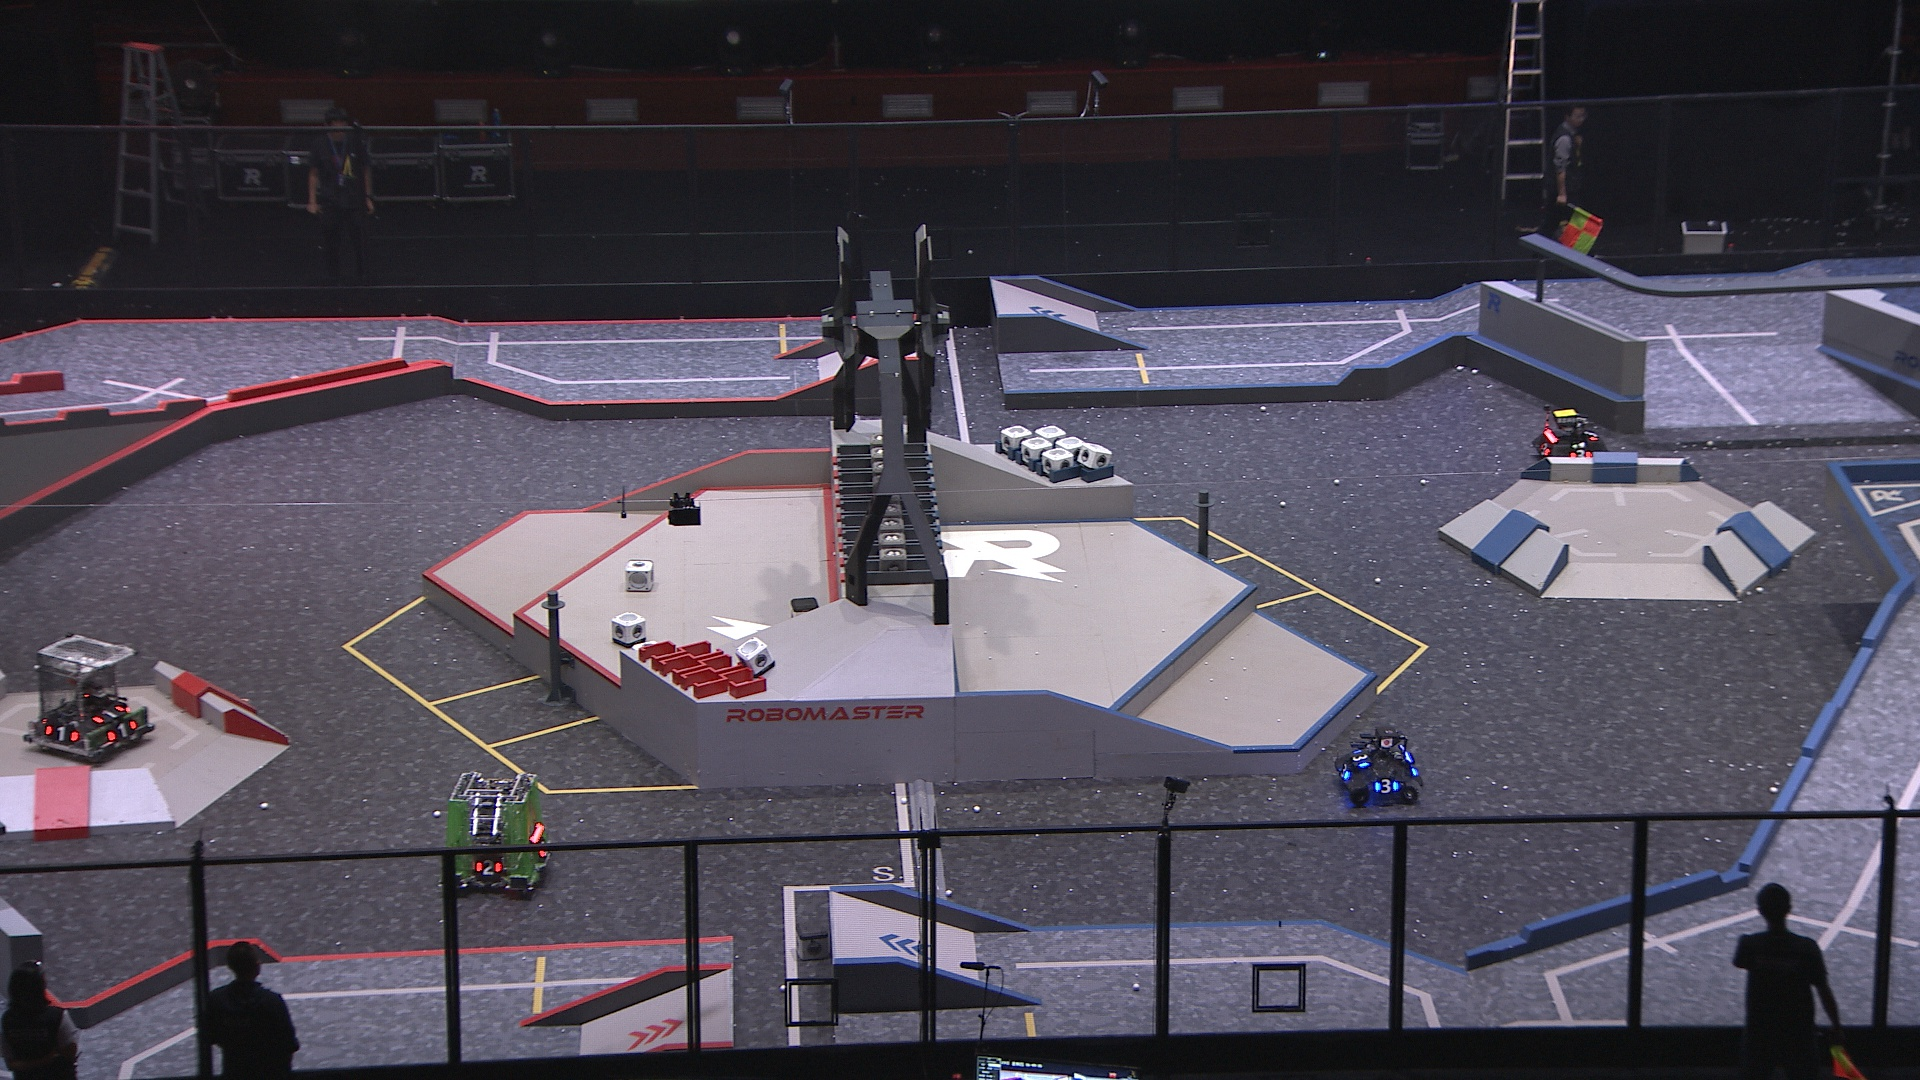armor: (105, 717, 138, 741), (44, 723, 79, 744), (91, 703, 127, 723), (1371, 775, 1400, 794), (473, 858, 502, 876), (1352, 746, 1371, 770), (534, 839, 553, 858), (1567, 447, 1594, 460), (1338, 761, 1352, 782), (1538, 439, 1552, 458), (1582, 429, 1600, 442)
car: (21, 632, 153, 765), (438, 773, 555, 898), (1332, 725, 1423, 808), (1528, 407, 1609, 465)
